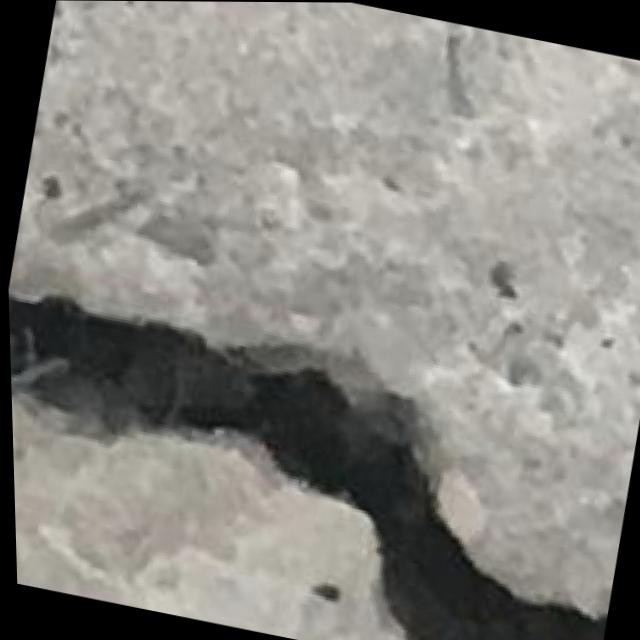Crack: (6, 263, 640, 640)
